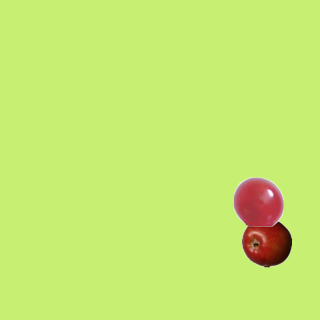Apple Braeburn: (241, 217, 291, 267)
Redcurrant: (233, 176, 283, 226)
